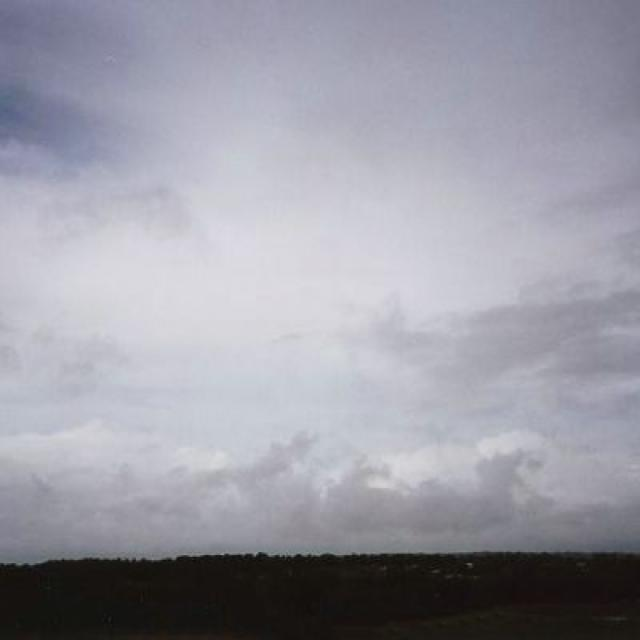St: (7, 45, 640, 480)
